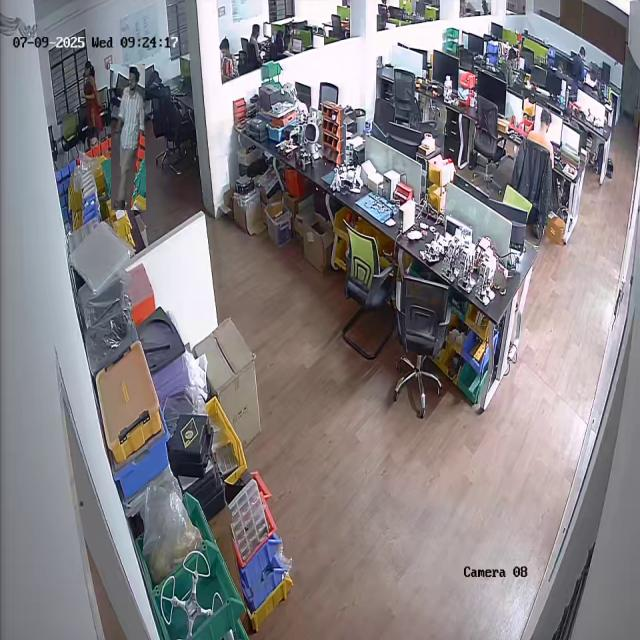person: (110, 64, 146, 210)
